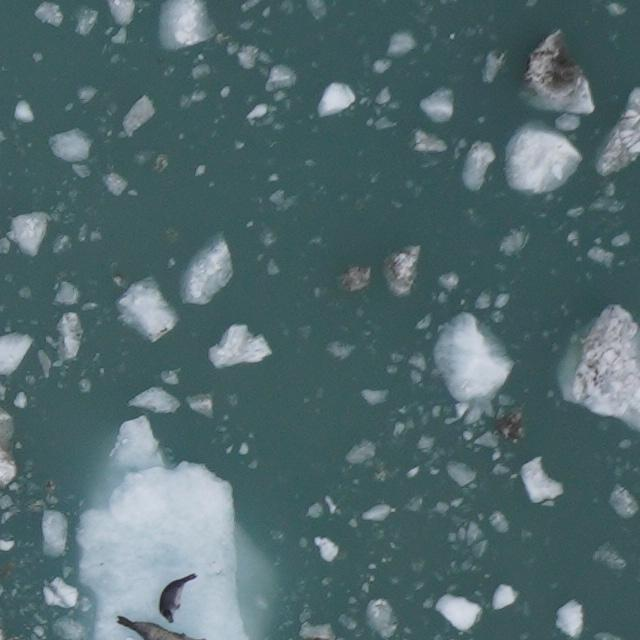seal: (111, 613, 209, 640), (157, 569, 201, 626)
